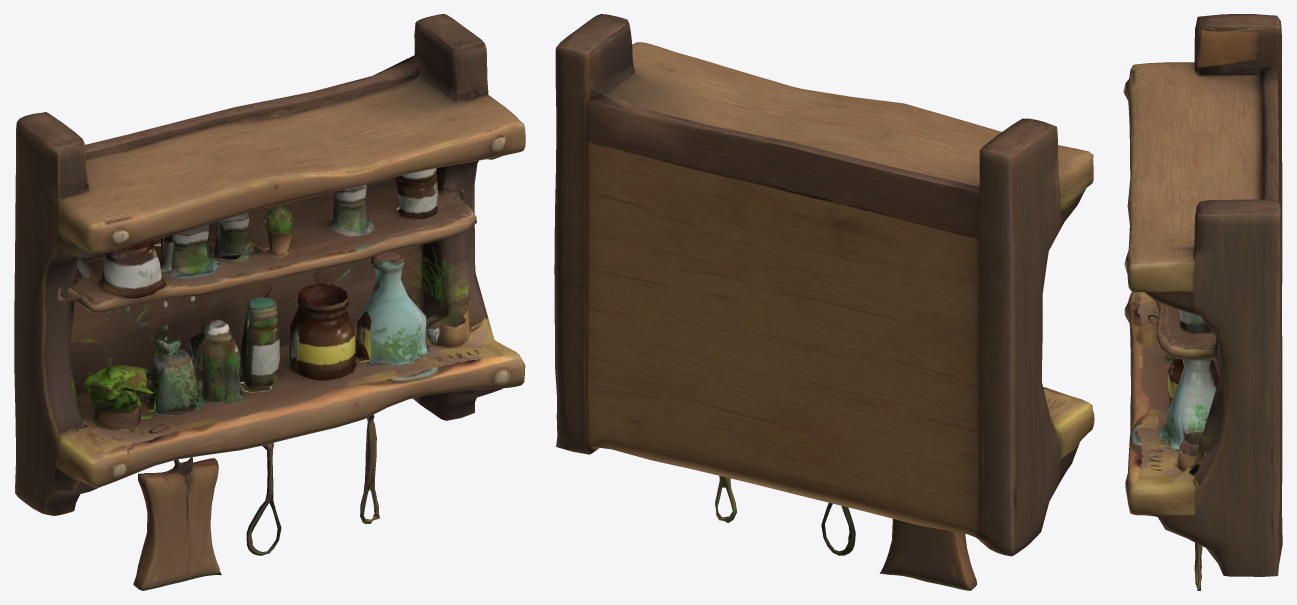
Rendered from shelf.glb.
The picture shows the model from 3 angles, left to right: view 1: azimuth 30°, elevation 25°; view 2: azimuth 150°, elevation 25°; view 3: azimuth 270°, elevation 25°; orthographic projection. The views are drawn at different scales.
Parts seen in each view (by area): view 1: model; view 2: model; view 3: model.
Boxes of the visible parts, box(x1,y1,x2,y2) form: model: box(14, 14, 525, 590); model: box(554, 14, 1094, 590); model: box(1123, 14, 1282, 590).
Size of the model in its own units: 1.95 by 1.97 by 0.6416.
Materials: 1 (1 with a texture image).
